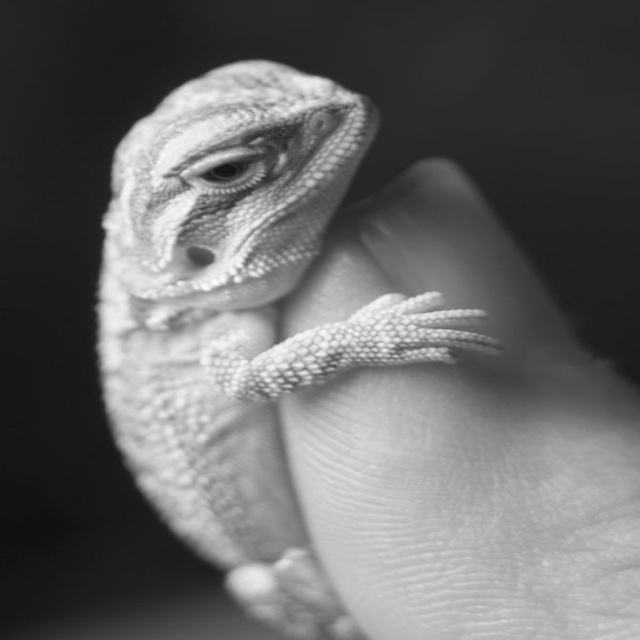Lizard: (65, 52, 527, 608)
